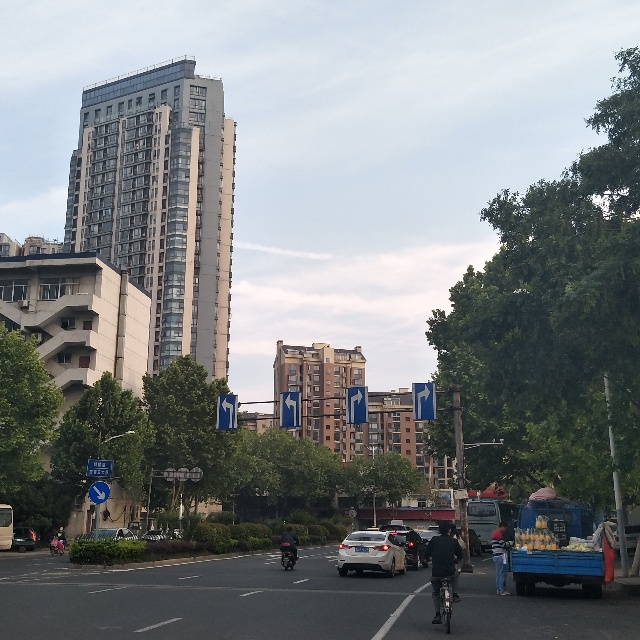left: (281, 391, 299, 428), (220, 396, 235, 429)
right: (414, 384, 435, 420), (348, 386, 366, 423)
